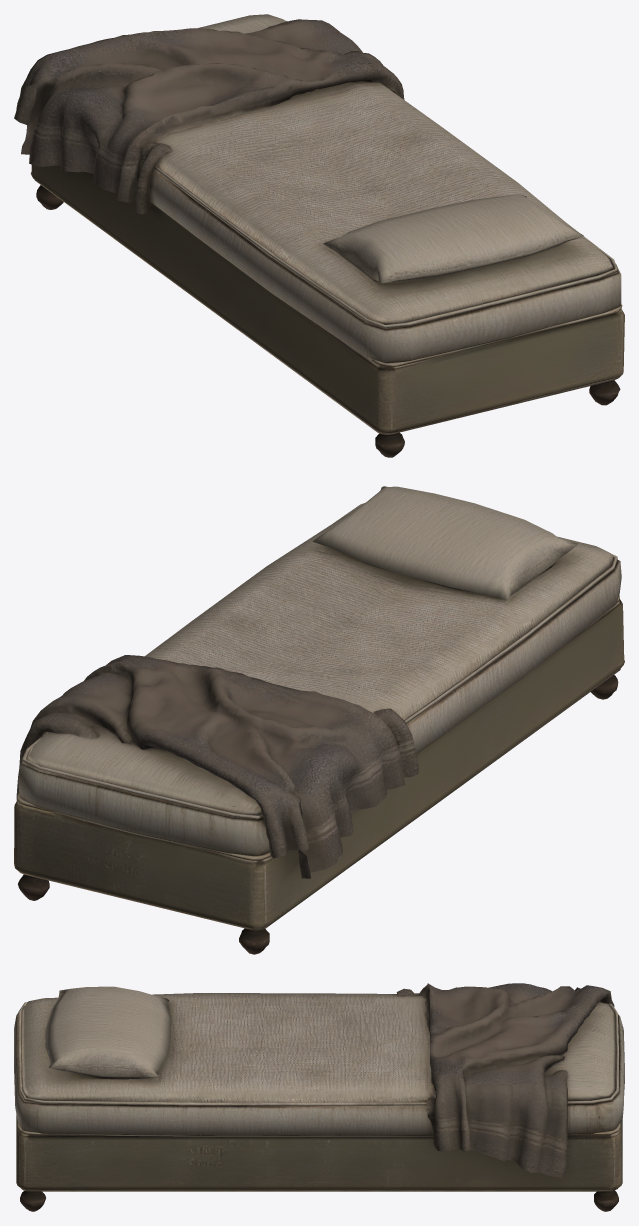
The model's file is bed-low-divan-v01.glb.
3 renders of one model, top to bottom at view 1: azimuth 30°, elevation 25°; view 2: azimuth 150°, elevation 25°; view 3: azimuth 270°, elevation 25°, orthographic. The views are drawn at different scales.
Visible parts, largest first — view 1: tripo_node_301b4b67-2380-463e-b297-53be680d1509; view 2: tripo_node_301b4b67-2380-463e-b297-53be680d1509; view 3: tripo_node_301b4b67-2380-463e-b297-53be680d1509.
Boxes of the visible parts, x1,y1,x2,y2 form: tripo_node_301b4b67-2380-463e-b297-53be680d1509: (14,14,624,457); tripo_node_301b4b67-2380-463e-b297-53be680d1509: (14,486,624,954); tripo_node_301b4b67-2380-463e-b297-53be680d1509: (14,983,624,1211).
Size of the model in its own units: 0.996 by 0.5304 by 1.95.
Materials: 1 (1 with a texture image).
